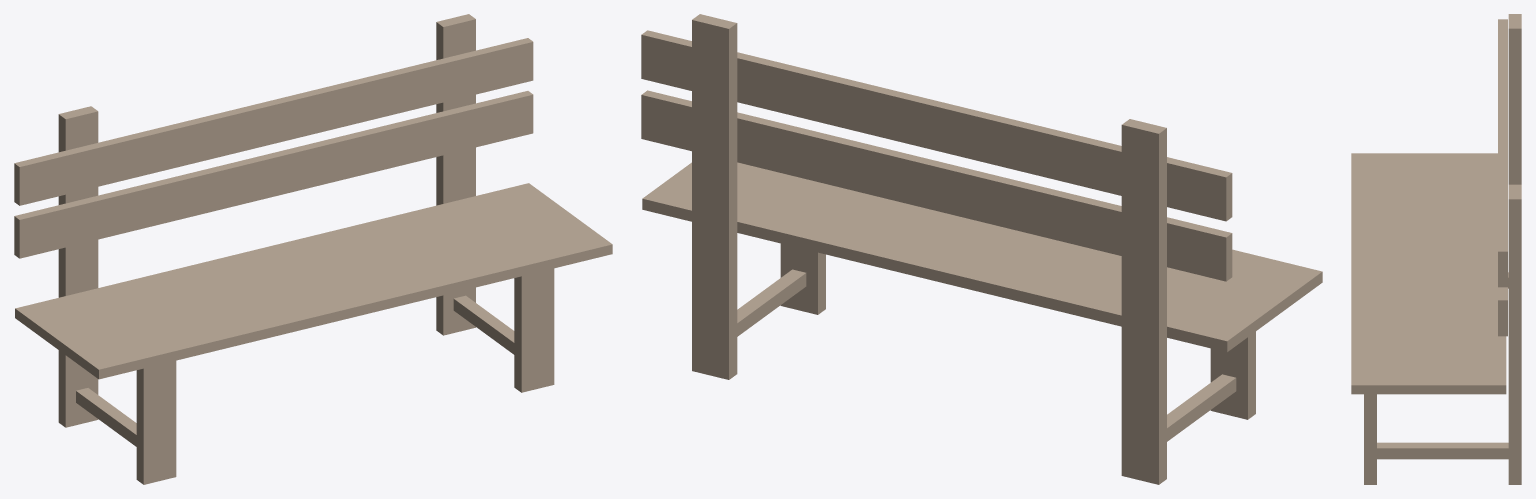
Rendered from bench.fbx.
3 views of the same model, side by side, from view 1: azimuth 30°, elevation 25°; view 2: azimuth 150°, elevation 25°; view 3: azimuth 270°, elevation 25° (orthographic). The views are drawn at different scales.
Visible parts, largest first — view 1: bench; view 2: bench; view 3: bench.
Part boxes in pixels (bbox=[...]): bench: bbox=[14, 14, 612, 484]; bench: bbox=[641, 14, 1322, 484]; bench: bbox=[1351, 14, 1521, 484].
Bounding box in the file's own units: 132 × 75.9 × 41.03.
1 material, 1 textured.
